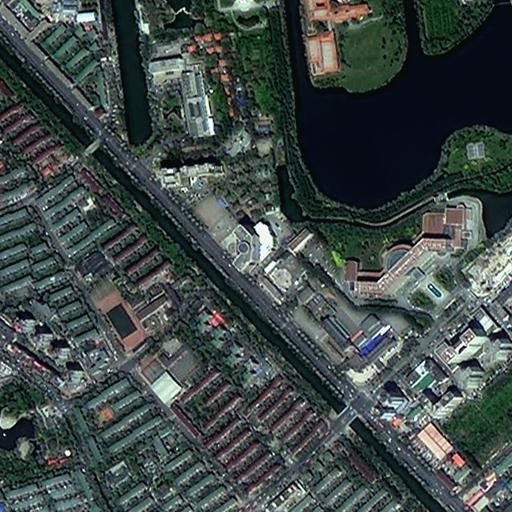school: (95, 280, 176, 353)
